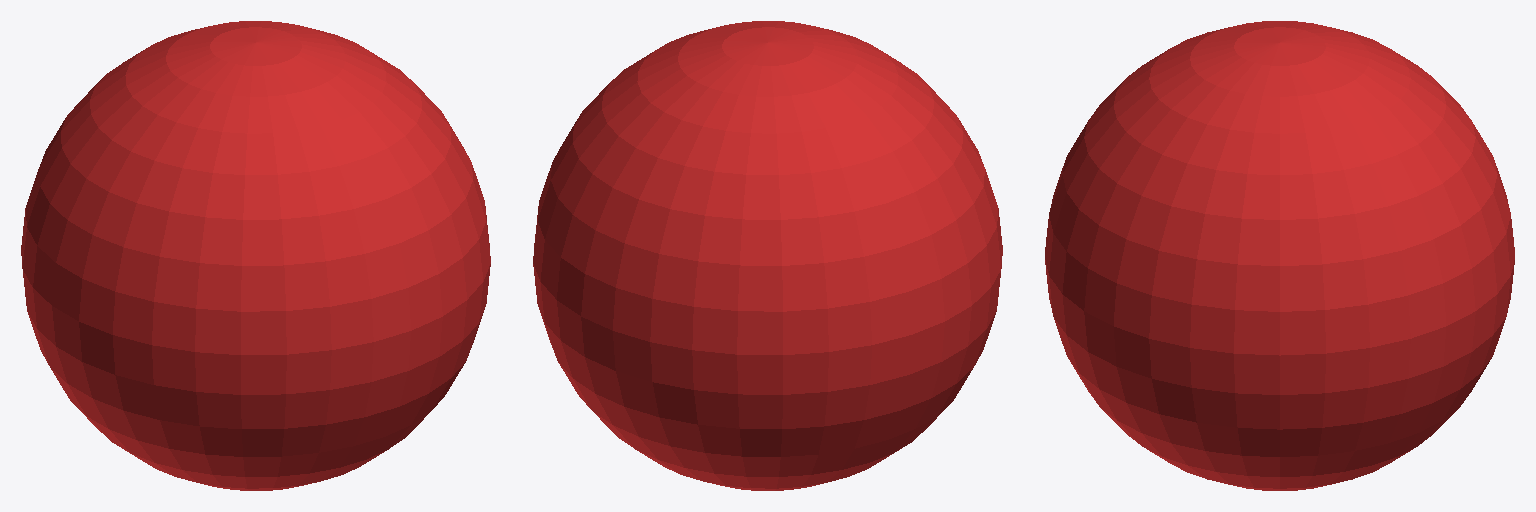
Rendered from EnergieFertig.obj.
3 renders of one model, left to right at view 1: azimuth 30°, elevation 25°; view 2: azimuth 150°, elevation 25°; view 3: azimuth 270°, elevation 25°, orthographic.
Visible parts, largest first — view 1: Kugel.2; view 2: Kugel.2; view 3: Kugel.2.
Part boxes in pixels (bbox=[...]): Kugel.2: bbox=[21, 21, 490, 490]; Kugel.2: bbox=[533, 21, 1002, 490]; Kugel.2: bbox=[1045, 21, 1514, 490].
Bounding box in the file's own units: 200 × 200 × 200.